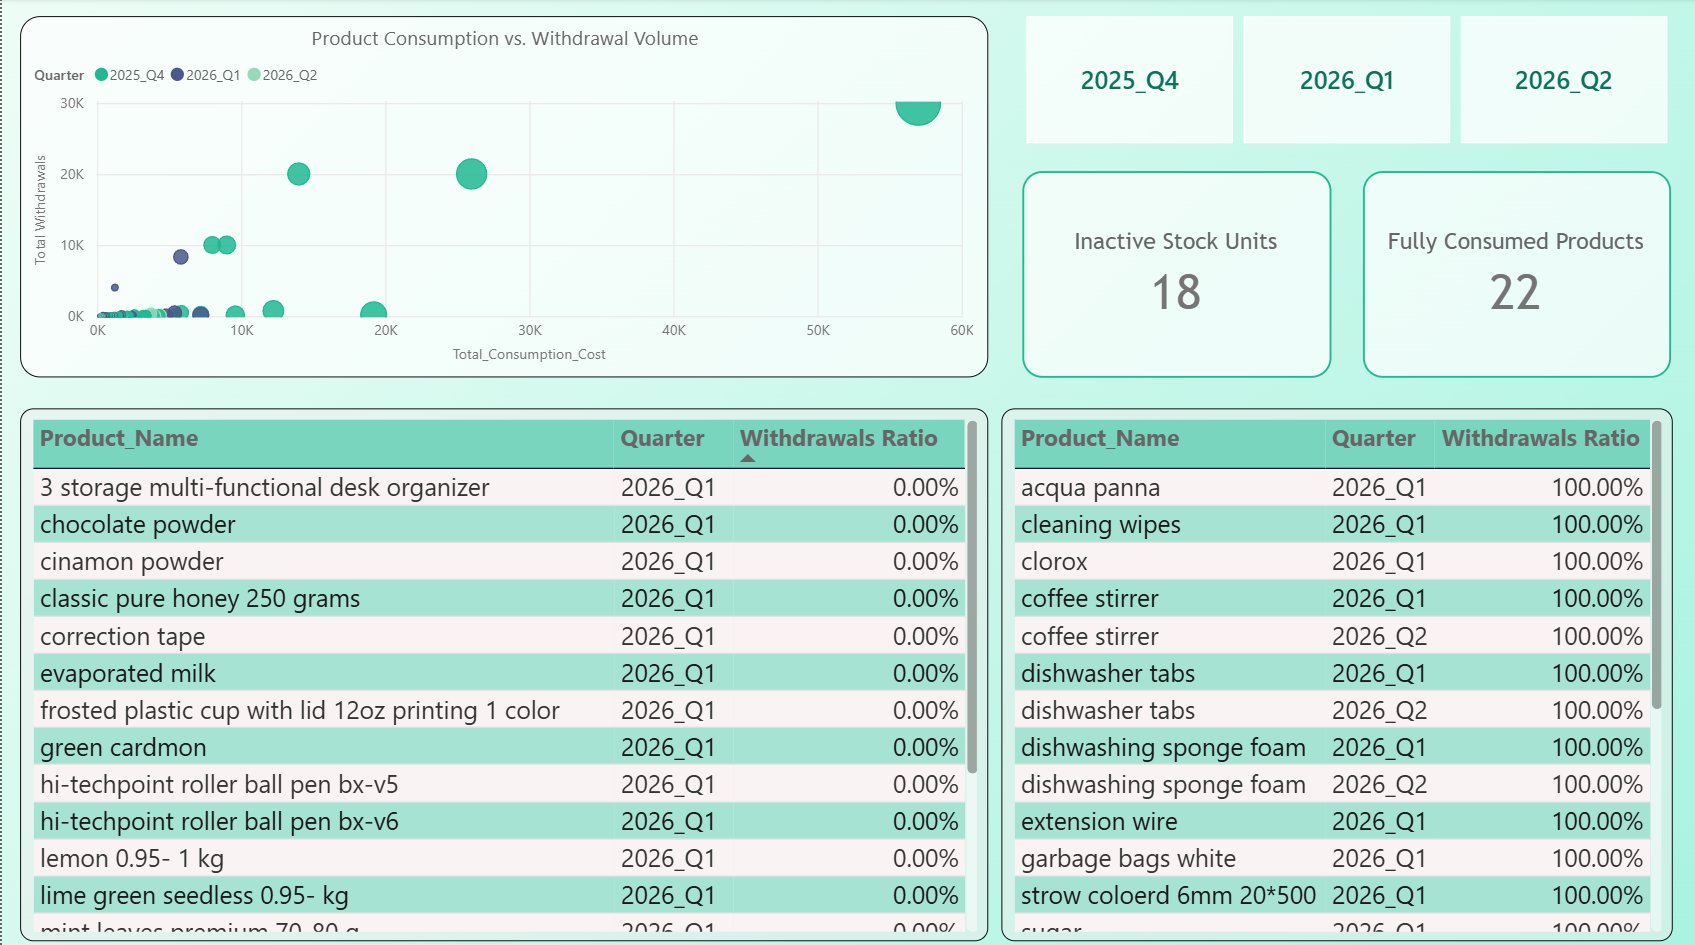

Layout of this report page (visuals, bound fields, positions):
{"tool":"powerbi","page":{"name":"Outlaiers","canvas":[1280,720],"ordinal":1},"visuals":[{"type":"scatterChart","title":"Product Consumption vs. Withdrawal Volume","fields":{"X":["Sum(All Periods.Total_Consumption_Cost)"],"Y":["Sum(All Periods.Total Withdrawals)"],"Series":["All Periods.Quarter"],"Category":["All Periods.Product_Name"],"Size":["Sum(All Periods.Total_Consumption_Cost)"]},"box":[13.6,13.6,731.5,273.3],"z":0},{"type":"tableEx","fields":{"Values":["All Periods.Product_Name","All Periods.Quarter","All Periods.Withdrawals Ratio"]},"box":[754.6,310,507.2,402.5],"z":1000},{"type":"tableEx","fields":{"Values":["All Periods.Product_Name","All Periods.Quarter","All Periods.Withdrawals Ratio"]},"box":[13.6,310,731.5,402.5],"z":2000},{"type":"cardVisual","fields":{"Data":["CountNonNull(All Periods.Product_Name)"]},"box":[1027.9,130.5,232.5,156.4],"z":3000},{"type":"cardVisual","fields":{"Data":["CountNonNull(All Periods.Product_Name)"]},"box":[771,130.5,233.9,156.4],"z":4000},{"type":"advancedSlicerVisual","fields":{"Values":["All Periods.Quarter"]},"box":[773.7,13.6,484,96.5],"z":5000}]}

Visuals, with their boxes in screenshot pixels (x1, y1, x2, y2), scaled from the page's 1280x720 canvas onto the 1695x945 screenshot:
"Product Consumption vs. Withdrawal Volume" scatterChart: (left=18, top=18, right=987, bottom=377)
tableEx - All Periods.Product_Name x All Periods.Quarter: (left=999, top=407, right=1671, bottom=935)
tableEx - All Periods.Product_Name x All Periods.Quarter: (left=18, top=407, right=987, bottom=935)
cardVisual - CountNonNull(All Periods.Product_Name): (left=1361, top=171, right=1669, bottom=377)
cardVisual - CountNonNull(All Periods.Product_Name): (left=1021, top=171, right=1331, bottom=377)
advancedSlicerVisual - All Periods.Quarter: (left=1025, top=18, right=1665, bottom=145)
